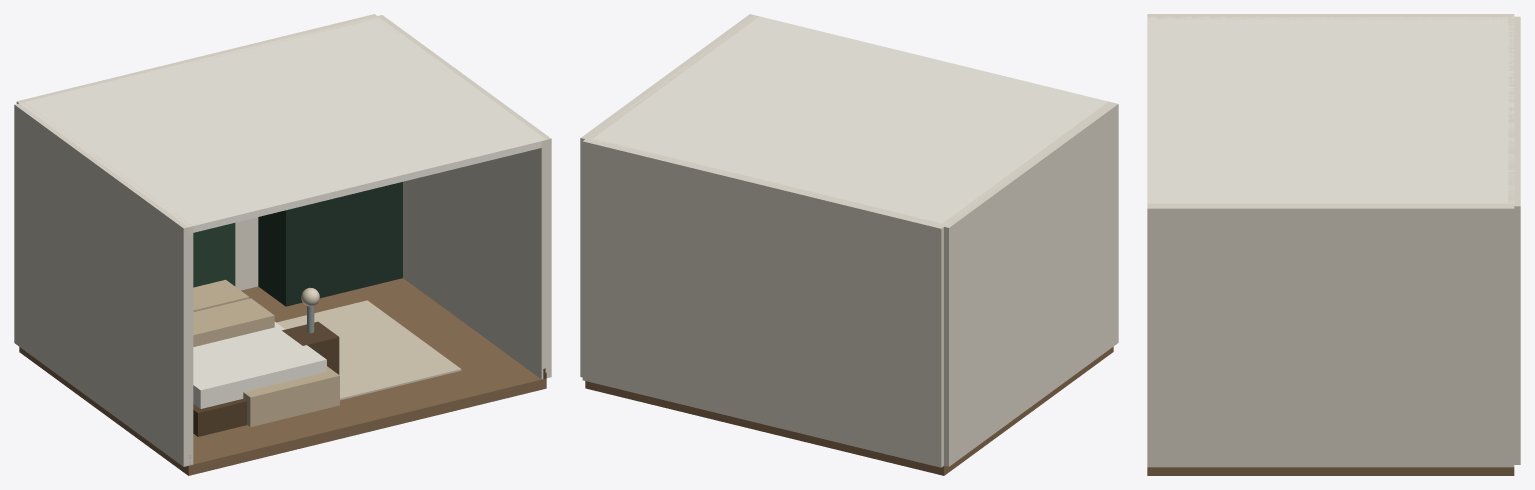
File: bedroom.glb
3 views of the same model, side by side, from view 1: azimuth 30°, elevation 25°; view 2: azimuth 150°, elevation 25°; view 3: azimuth 270°, elevation 25° (orthographic). The views are drawn at different scales.
Size of the model in its own units: 4.52 by 2.92 by 3.66.
